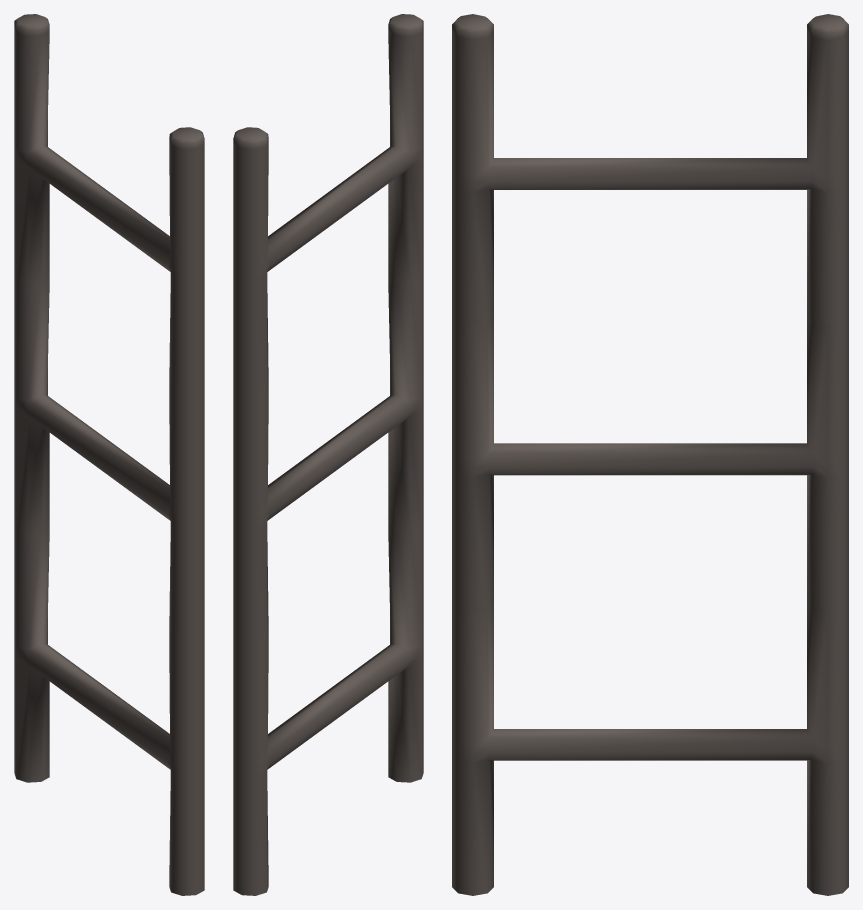
The model's file is Ladder.fbx.
The picture shows the model from 3 angles, left to right: view 1: azimuth 30°, elevation 25°; view 2: azimuth 150°, elevation 25°; view 3: azimuth 270°, elevation 25°; orthographic projection. The views are drawn at different scales.
Parts seen in each view (by area): view 1: LadderPiece, LadderEnd; view 2: LadderPiece, LadderEnd; view 3: LadderPiece, LadderEnd.
Boxes of the visible parts, box(x1,y1,x2,y2) form: LadderPiece: box(14, 27, 204, 895); LadderEnd: box(14, 14, 204, 149); LadderPiece: box(233, 27, 423, 895); LadderEnd: box(233, 14, 423, 149); LadderPiece: box(452, 31, 848, 895); LadderEnd: box(452, 14, 848, 39).
Bounding box in the file's own units: 8 × 182 × 75.64.
